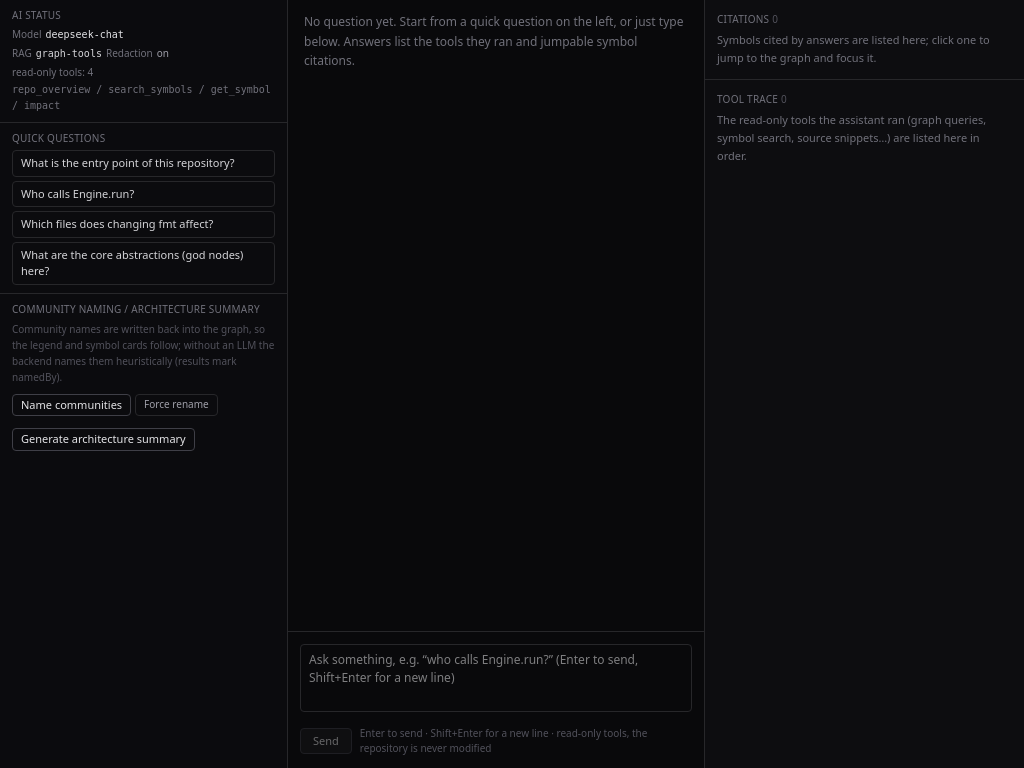
Scenario: AskView 对话 › 停止：中断后续渲染并标记已停止
Expected: the text "deepseek-chat" is shown, [46,27,124,42]
Replace the text in the text box with test id "ask-input" with "问": (496, 678) [300,644,692,712]
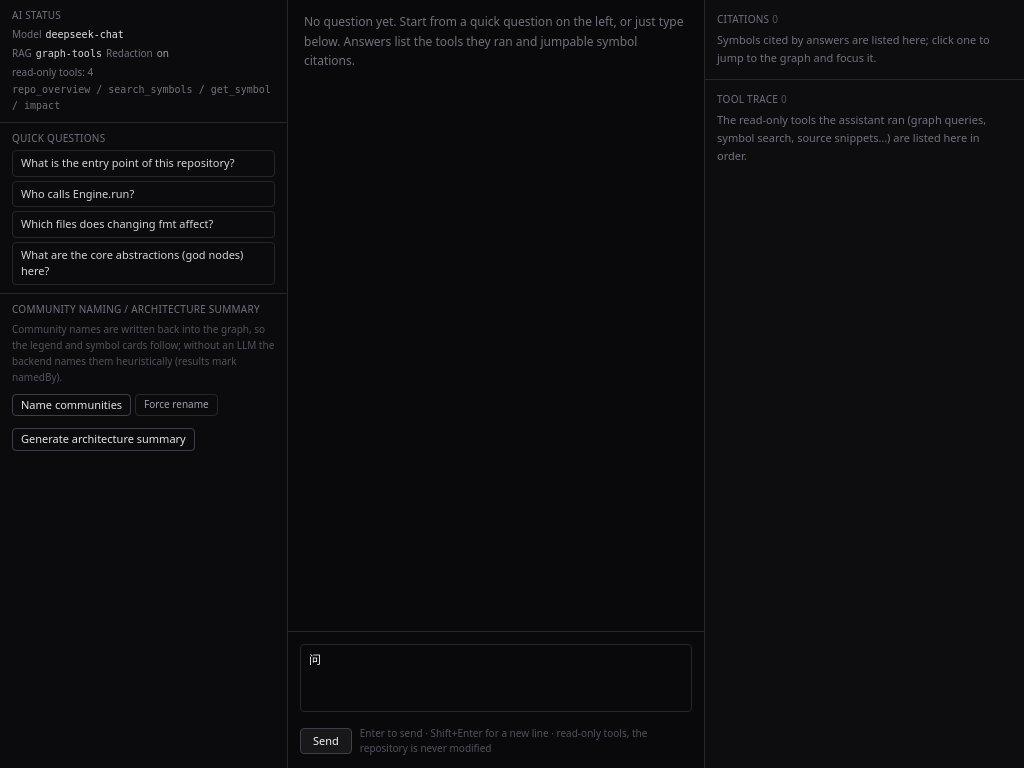
Click the button with test id "ask-send": (326, 741) [300,728,352,754]
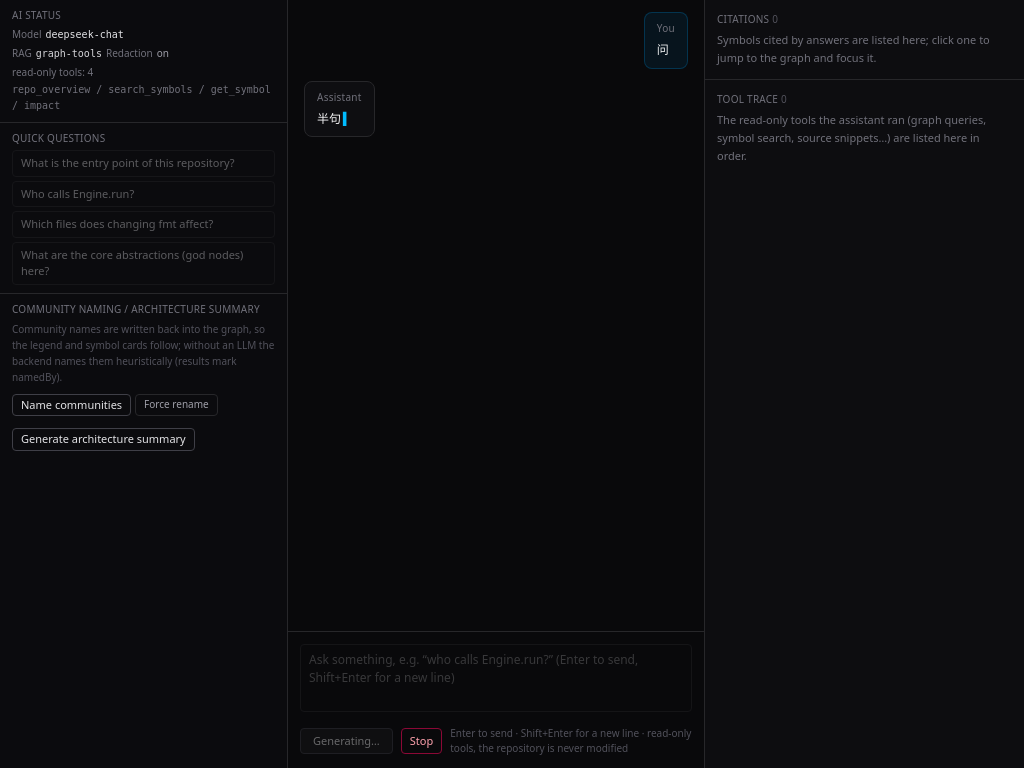
Click the button with test id "ask-stop": (422, 741) [401,728,442,754]
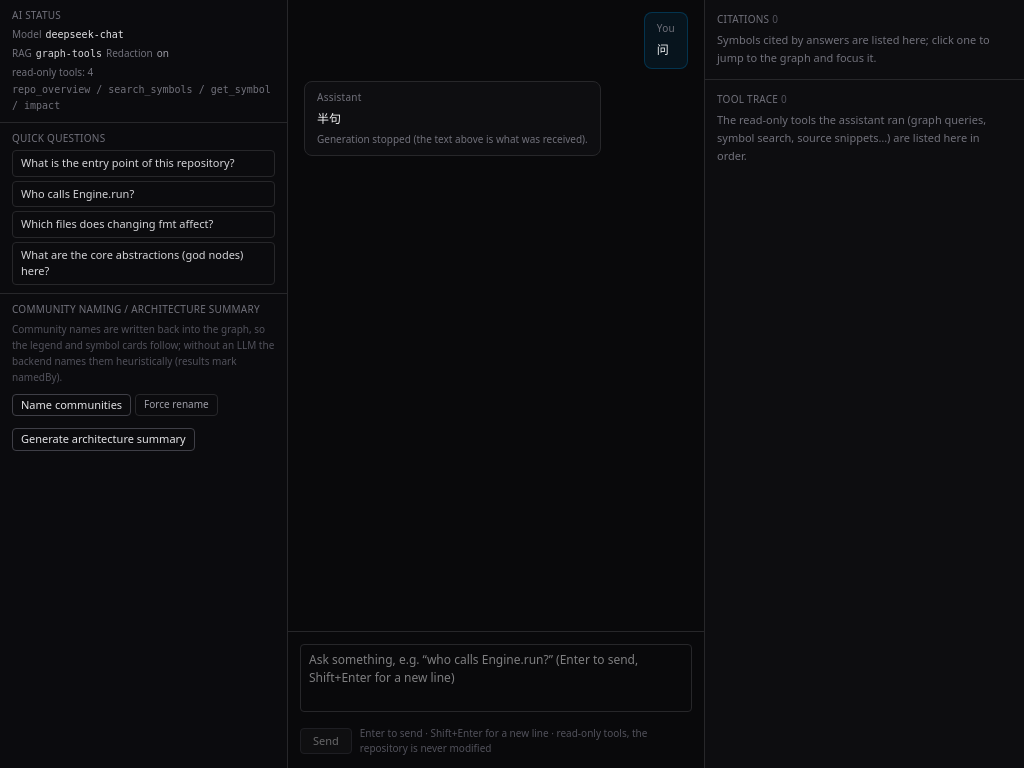
Expected: the text with test id "ask-message-content" reads "半句", [317,110,341,126]
Expected: the text "Generation stopped (the text above is what was received)." is shown, [317,132,588,147]
